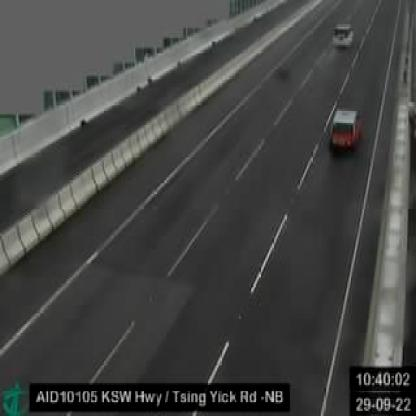Car: (328, 108, 365, 152), (332, 19, 354, 50)
